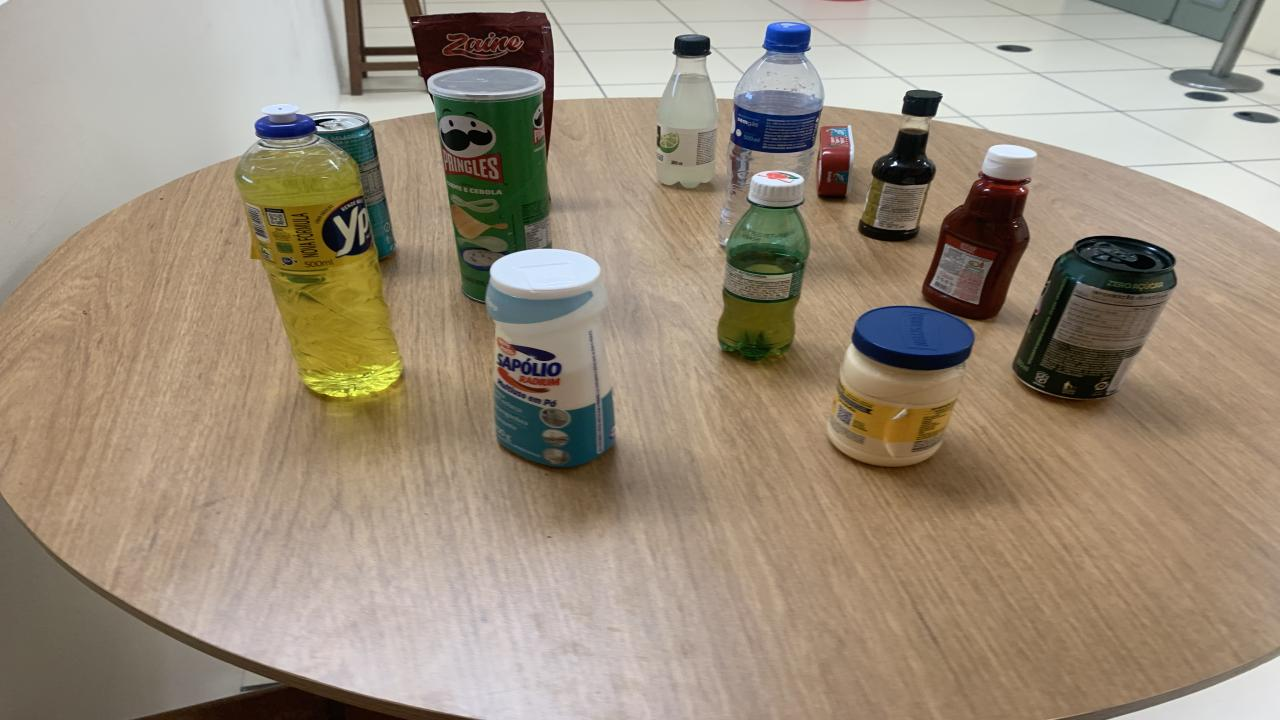Cleaner-Cleanup_Items: (485, 249, 615, 467), (762, 276, 768, 279)
Detergent-Cleanup_Items: (235, 105, 402, 398)
English_Sauce-Pantry_Items: (860, 90, 940, 242)
Guarana-Drinks: (718, 171, 810, 360)
Guarana_Can-Drinks: (1012, 236, 1178, 399)
Ketchup-Pantry_Items: (922, 144, 1038, 319)
Mayonnaise-Pantry_Items: (828, 306, 975, 467)
Pringles-Snacks: (428, 68, 550, 300)
Soda-Drinks: (658, 34, 718, 188)
Tea-Drinks: (310, 111, 395, 257)
Tomato_Sauce-Pantry_Items: (410, 11, 555, 152)
Tuna_Can-Pantry_Items: (818, 126, 852, 197)
Water_Bottle-Drinks: (718, 22, 825, 246)
